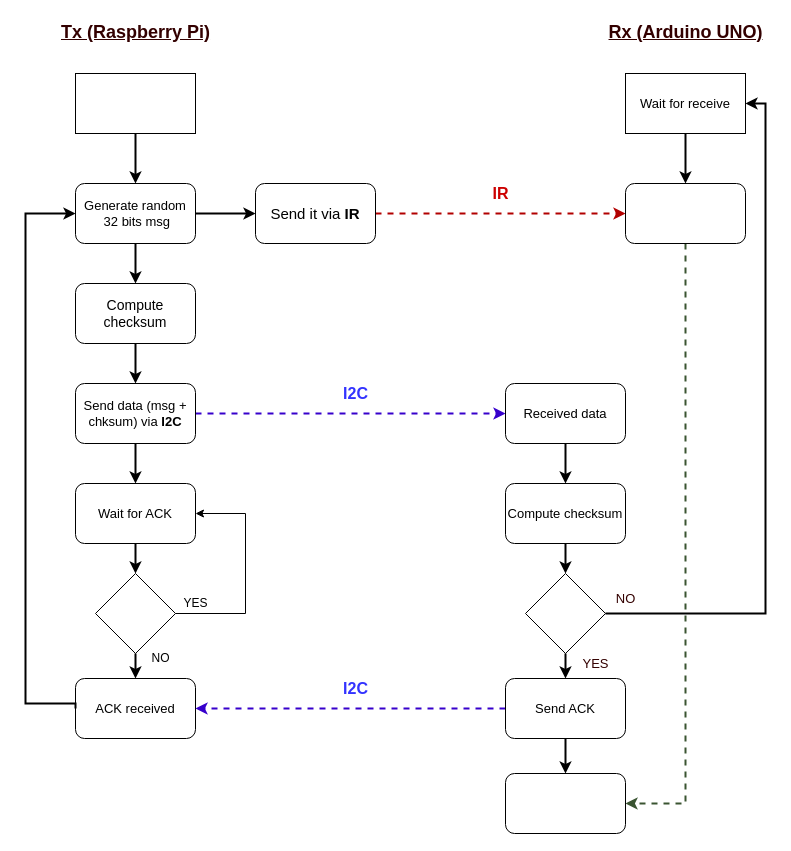
This 791x851 diagram has some shape labels left out. The shapes that lost their labels are listed below. From the top down, each one's box as (x1, y1, x2, y2) in pixels, then its label:
(74, 72, 196, 134): Start
(624, 182, 746, 244): Received msg
(94, 572, 176, 654): Timeout?
(524, 572, 606, 654): Msg ok?
(504, 772, 626, 834): Compute BERi
